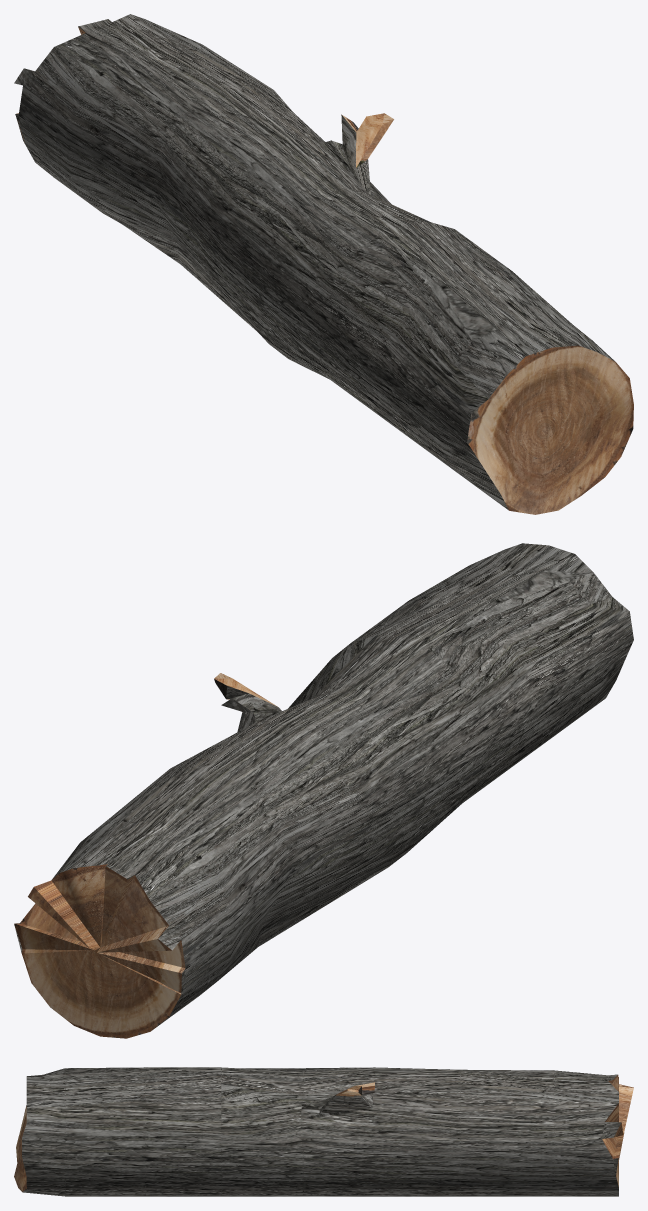
The model's file is deadtrunk.obj.
The picture shows the model from 3 angles, top to bottom: view 1: azimuth 30°, elevation 25°; view 2: azimuth 150°, elevation 25°; view 3: azimuth 270°, elevation 25°; orthographic projection. The views are drawn at different scales.
Visible parts, largest first — view 1: pCylinder1; view 2: pCylinder1; view 3: pCylinder1.
Boxes of the visible parts, left/top/right/bottom form: pCylinder1: left=14, top=14, right=633, bottom=514; pCylinder1: left=14, top=543, right=633, bottom=1038; pCylinder1: left=14, top=1067, right=633, bottom=1196.
Bounding box in the file's own units: 3.67 × 3.96 × 17.34.
2 materials, 2 textured.
